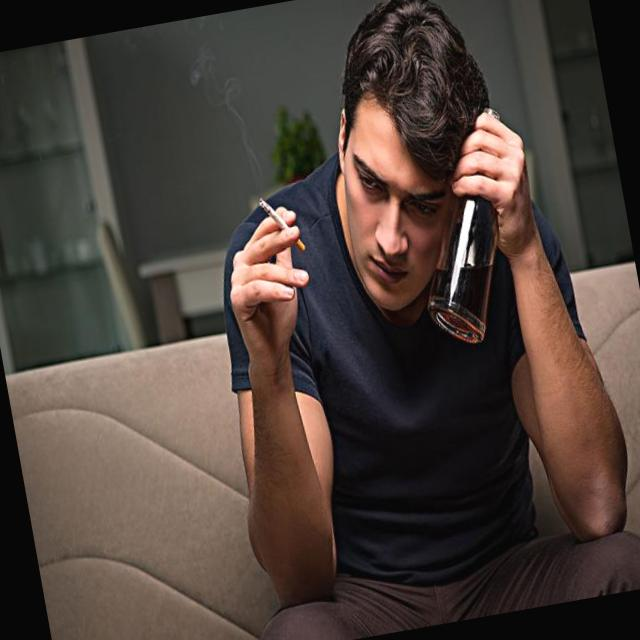smoke: (254, 182, 308, 262)
